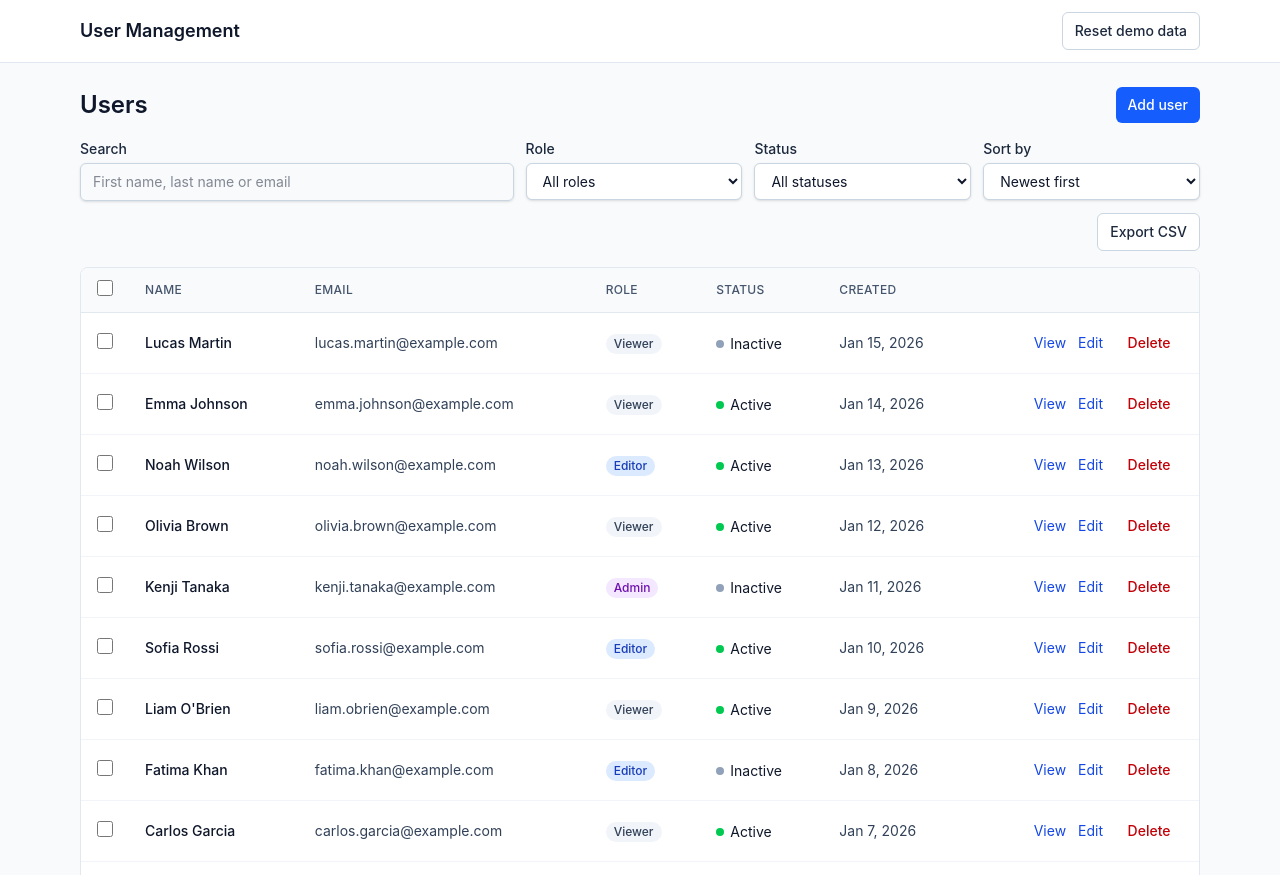
Reset demo data › shows an error toast when the reset fails
Click the button "Reset demo data": point(1131, 31) x1=1062 y1=12 x2=1200 y2=50
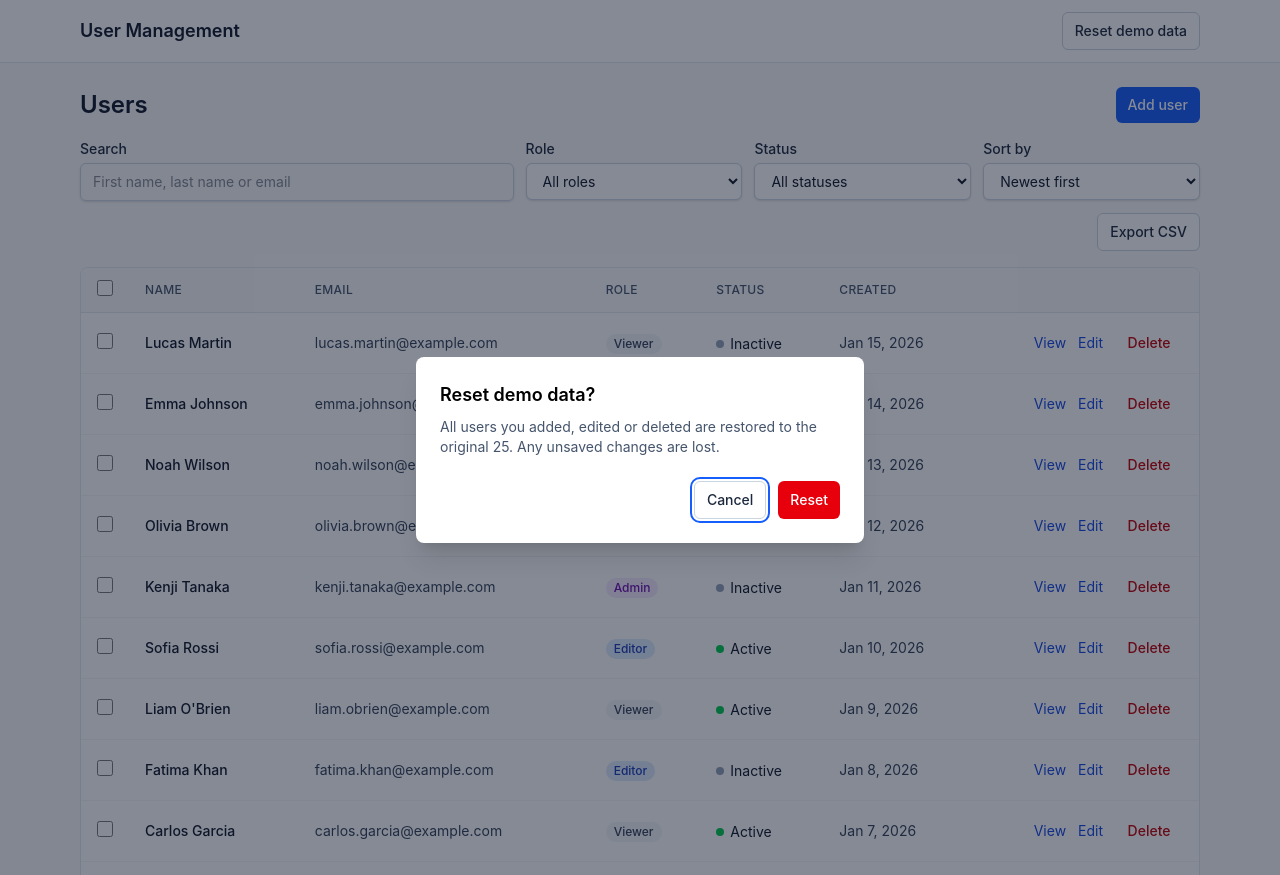
Click the button "Reset": point(809, 500) x1=778 y1=481 x2=840 y2=519
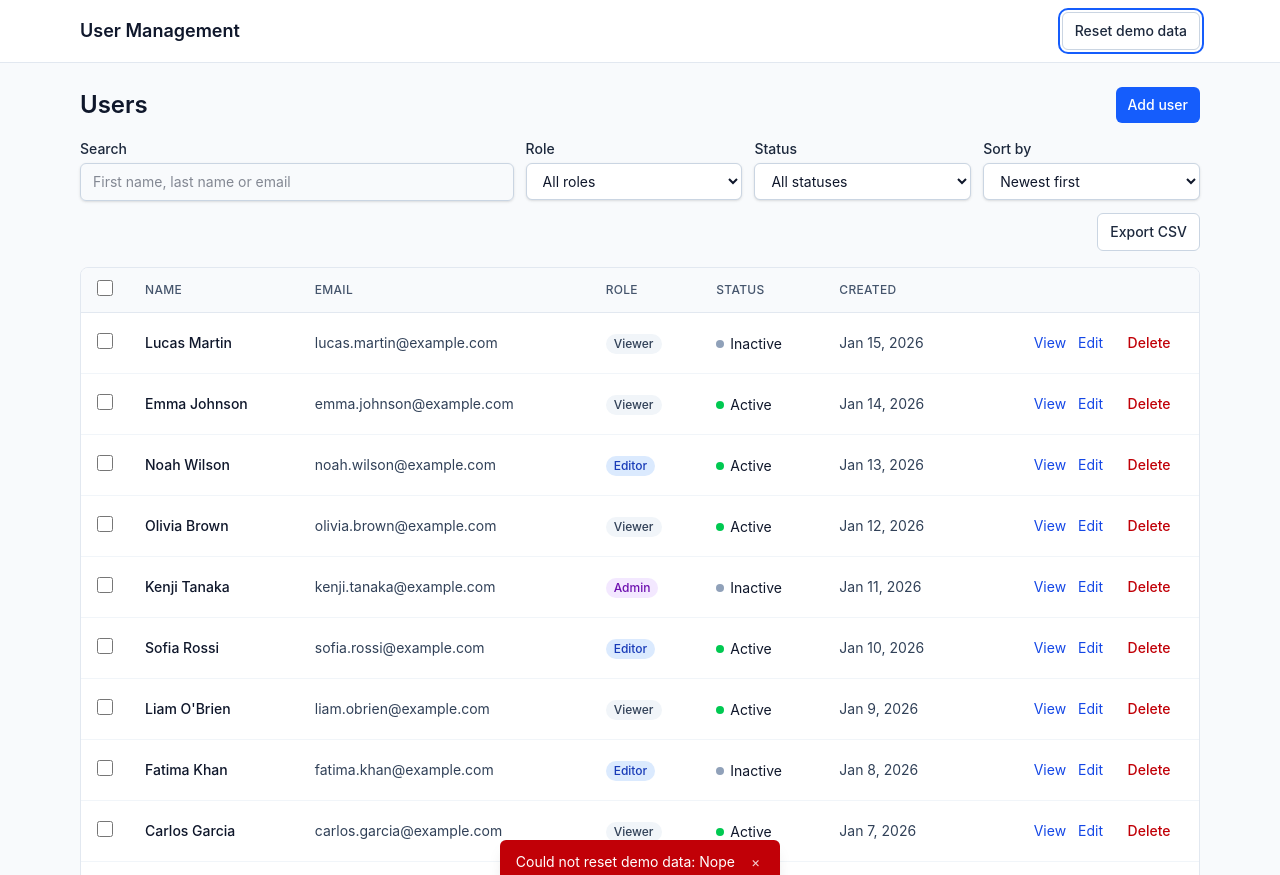
Expected: the text "Could not reset demo data: Nope" is shown, x1=516 y1=852 x2=735 y2=872
